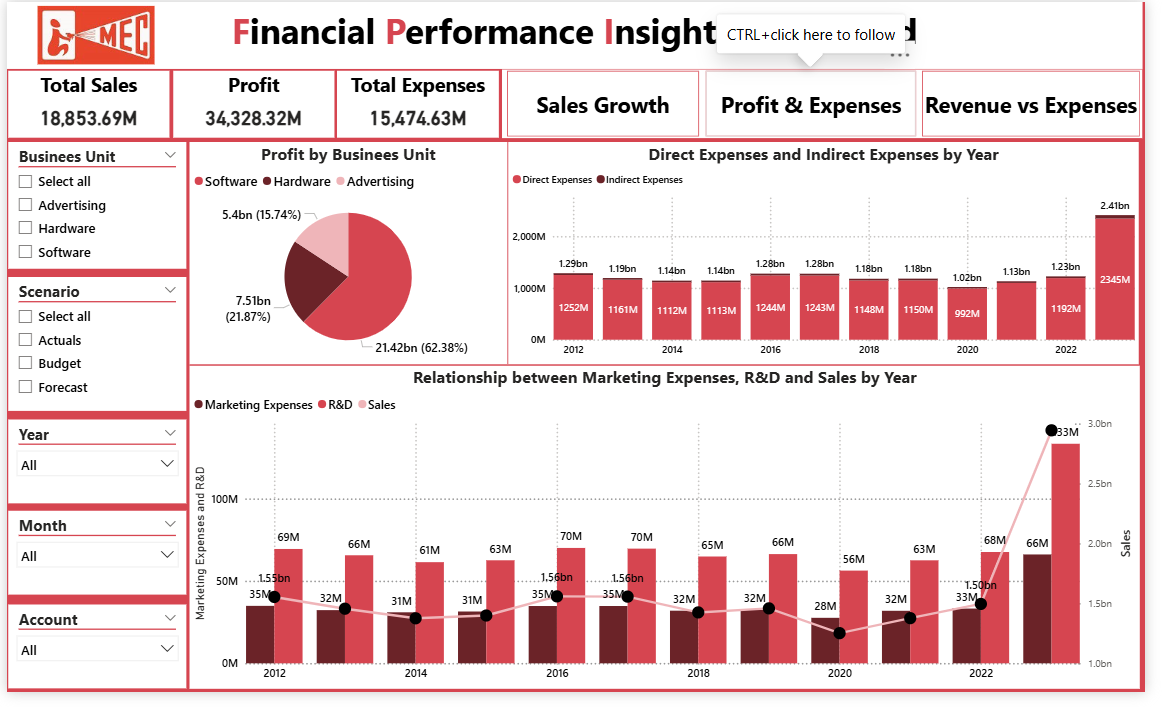

What the dashboard file says about the page in this screenshot:
{"tool":"powerbi","page":{"name":"Duplicate of Reports 1","canvas":[1400,850],"ordinal":1},"visuals":[{"type":"pieChart","fields":{"Category":["Financials.Businees Unit"],"Y":["Financials.Profit"]},"box":[225.4,172.5,391,273.2],"z":0,"group":"g1"},{"type":"slicer","fields":{"Values":["Financials.Year"]},"box":[1.9,514.1,219.5,103.2],"z":0},{"type":"columnChart","fields":{"Category":["Financials.Year"],"Y":["Measure Table.Direct Expenses","Measure Table.Indirect Expenses"]},"box":[618.3,172.5,776.3,273.5],"z":1000,"group":"g1"},{"type":"slicer","fields":{"Values":["Financials.Businees Unit"]},"box":[1.9,172.6,219.5,155.7],"z":1000},{"type":"lineClusteredColumnComboChart","title":"Relationship between Marketing Expenses, R&D and Sales by Year","fields":{"Category":["Financials.Date.Variation.Date Hierarchy.Year"],"Y":["Measure Table.Indirect Expenses","Measure Table.R&D"],"Y2":["Measure Table.Sales"]},"box":[225.4,448,1169.9,397.9],"z":2000,"group":"g1"},{"type":"slicer","fields":{"Values":["Financials.Month"]},"box":[1.9,626.7,219.5,103.2],"z":2000},{"type":"slicer","fields":{"Values":["Financials.Scenario"]},"box":[1.9,338.7,219.5,165.1],"z":3000},{"type":"slicer","fields":{"Values":["Financials.Account"]},"box":[1.9,741.2,219.5,103.2],"z":4000},{"type":"card","title":"Total Sales","fields":{"Values":["Measure Table.Sales"]},"box":[2.1,84.2,198,82.1],"z":5000},{"type":"card","title":"Total Expenses","fields":{"Values":["Measure Table.Total expense"]},"box":[406.7,84.4,198.9,82.6],"z":6000},{"type":"card","title":"Profit","fields":{"Values":["Measure Table.Profit"]},"box":[204.4,84.2,198,82.1],"z":7000},{"type":"group","id":"g1","title":"4,5 ,6,7&8","box":[225.4,172.5,1169.9,673.4],"z":9000},{"type":"textbox","box":[0,0,1397.2,82.1],"z":10000},{"type":"image","box":[0,0,218.8,82.1],"z":11000},{"type":"shape","box":[609.8,82.6,788.1,84.4],"z":12000},{"type":"shape","title":"Sales","box":[615.5,84.4,236.4,81],"z":14000},{"type":"shape","title":"Profit and Expenses","box":[859.4,84.4,258.9,81],"z":15000},{"type":"shape","title":"Revenue and Expenses","box":[1125.8,84.4,268.3,81],"z":16000}]}

Visuals, with their boxes in screenshot pixels (x1, y1, x2, y2), scaled from the page's 1400x850 canvas onto the 1162x707 screenshot:
pieChart - Financials.Businees Unit x Financials.Profit: <region>187, 143, 512, 371</region>
slicer - Financials.Year: <region>2, 428, 184, 513</region>
columnChart - Financials.Year x Measure Table.Direct Expenses: <region>513, 143, 1158, 371</region>
slicer - Financials.Businees Unit: <region>2, 144, 184, 273</region>
"Relationship between Marketing Expenses, R&D and Sales by Year" lineClusteredColumnComboChart: <region>187, 373, 1158, 704</region>
slicer - Financials.Month: <region>2, 521, 184, 607</region>
slicer - Financials.Scenario: <region>2, 282, 184, 419</region>
slicer - Financials.Account: <region>2, 617, 184, 702</region>
"Total Sales" card: <region>2, 70, 166, 138</region>
"Total Expenses" card: <region>338, 70, 503, 139</region>
"Profit" card: <region>170, 70, 334, 138</region>
"4,5 ,6,7&8" group: <region>187, 143, 1158, 704</region>
textbox: <region>0, 0, 1160, 68</region>
image: <region>0, 0, 182, 68</region>
shape: <region>506, 69, 1160, 139</region>
"Sales" shape: <region>511, 70, 707, 138</region>
"Profit and Expenses" shape: <region>713, 70, 928, 138</region>
"Revenue and Expenses" shape: <region>934, 70, 1157, 138</region>
